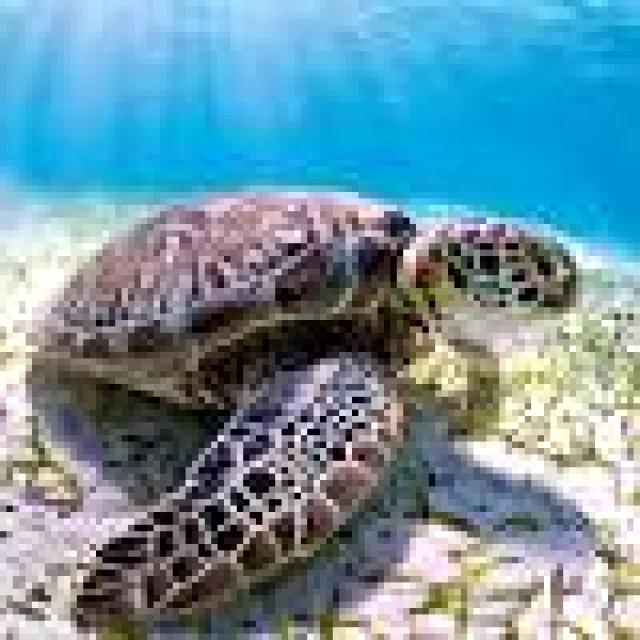Sea turtle: (29, 192, 580, 640)
